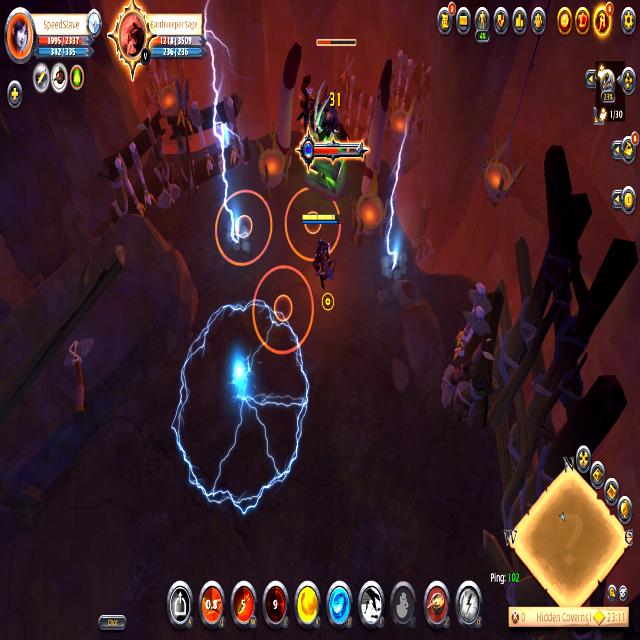ore: (299, 36, 362, 182)
silver: (255, 267, 312, 352), (216, 190, 273, 264), (286, 187, 341, 262)
